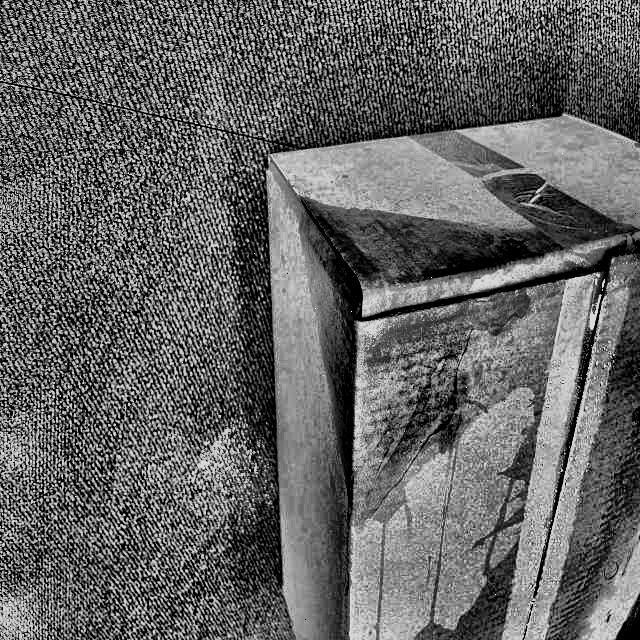box: (245, 96, 640, 639)
wet: (300, 205, 572, 514)
